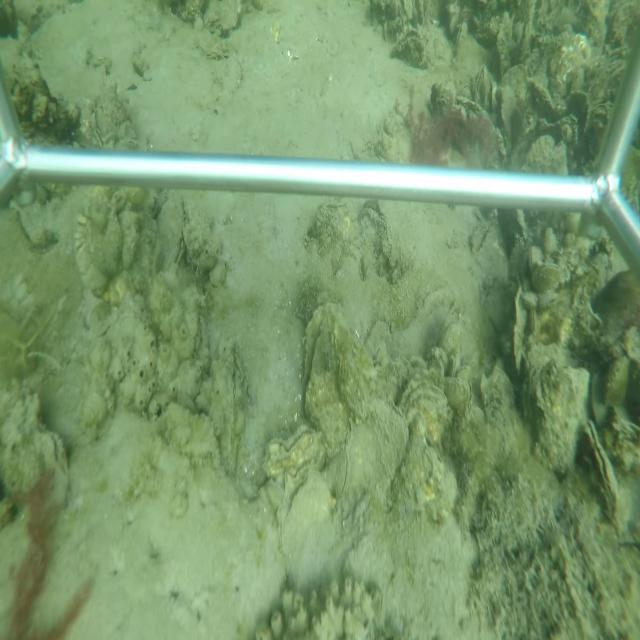Oyster-Closed: (209, 335, 251, 476), (582, 418, 620, 530), (398, 375, 454, 447), (262, 423, 329, 479), (193, 28, 232, 64), (170, 196, 189, 269), (180, 221, 209, 260), (453, 22, 468, 56)
Oyster-Indeterminate: (300, 312, 354, 460), (431, 86, 506, 171), (299, 300, 345, 406), (508, 278, 530, 378)
Oyster-Open: (360, 202, 395, 275)
